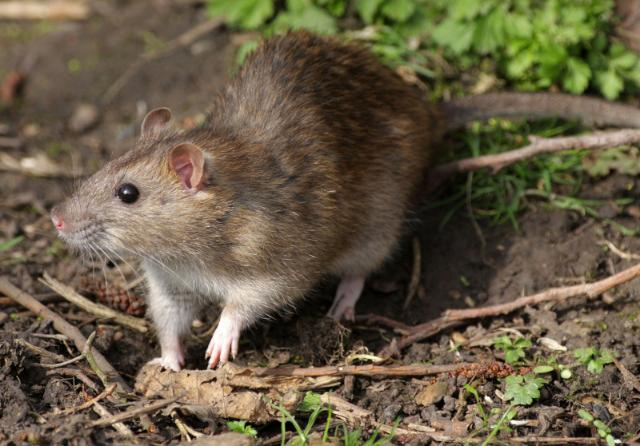rat: (41, 18, 467, 382)
